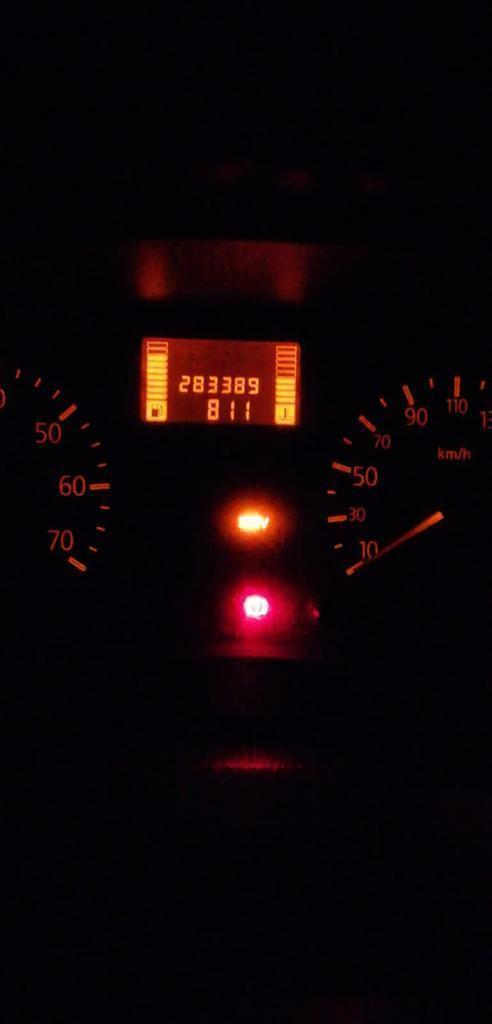1: (244, 399, 251, 422), (229, 398, 235, 422)
2: (179, 374, 191, 393)
3: (207, 374, 218, 393), (221, 375, 231, 394)
8: (207, 397, 218, 421), (233, 374, 244, 395), (193, 374, 203, 393)
9: (248, 376, 259, 394)
odometer: (137, 334, 304, 429)
